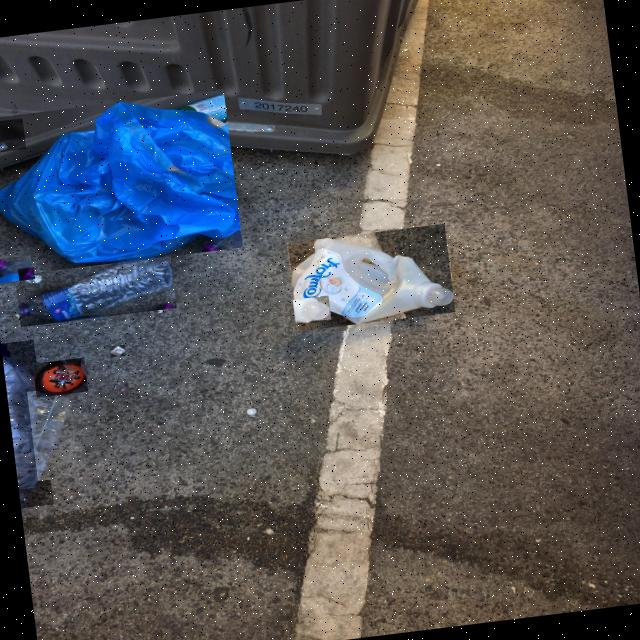Aluminium foil: (150, 298, 168, 311)
Clear plastic bottle: (18, 258, 173, 322), (1, 344, 41, 508), (0, 259, 33, 278)
Disposable food container: (33, 389, 70, 480)
Garbage bag: (0, 102, 240, 264)
Metal bottle cap: (247, 409, 258, 416)
Other plastic bottle: (0, 127, 24, 139)
Other plastic container: (292, 237, 453, 323)
Plastic bottle cap: (296, 298, 330, 322), (19, 267, 34, 279)
Plastic lid: (34, 360, 86, 395)
Unlabeled litter: (110, 345, 125, 356)
